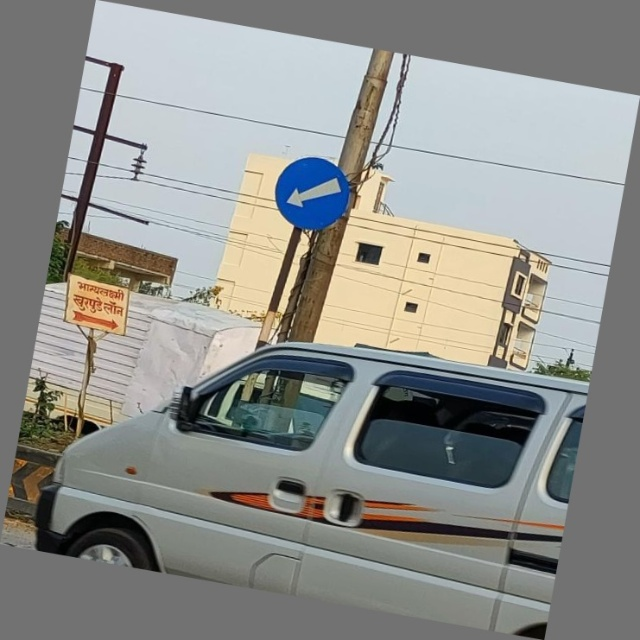R.301e: (263, 148, 363, 244)
